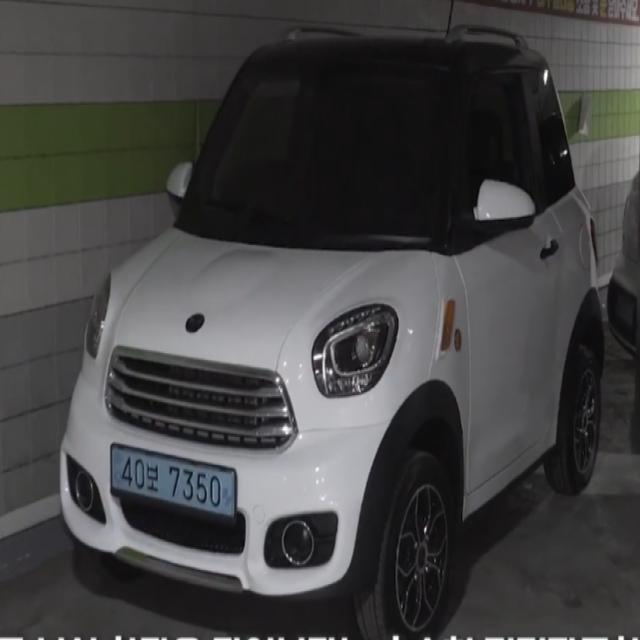car: (102, 434, 246, 531)
carev: (221, 465, 239, 523), (109, 442, 123, 496)
